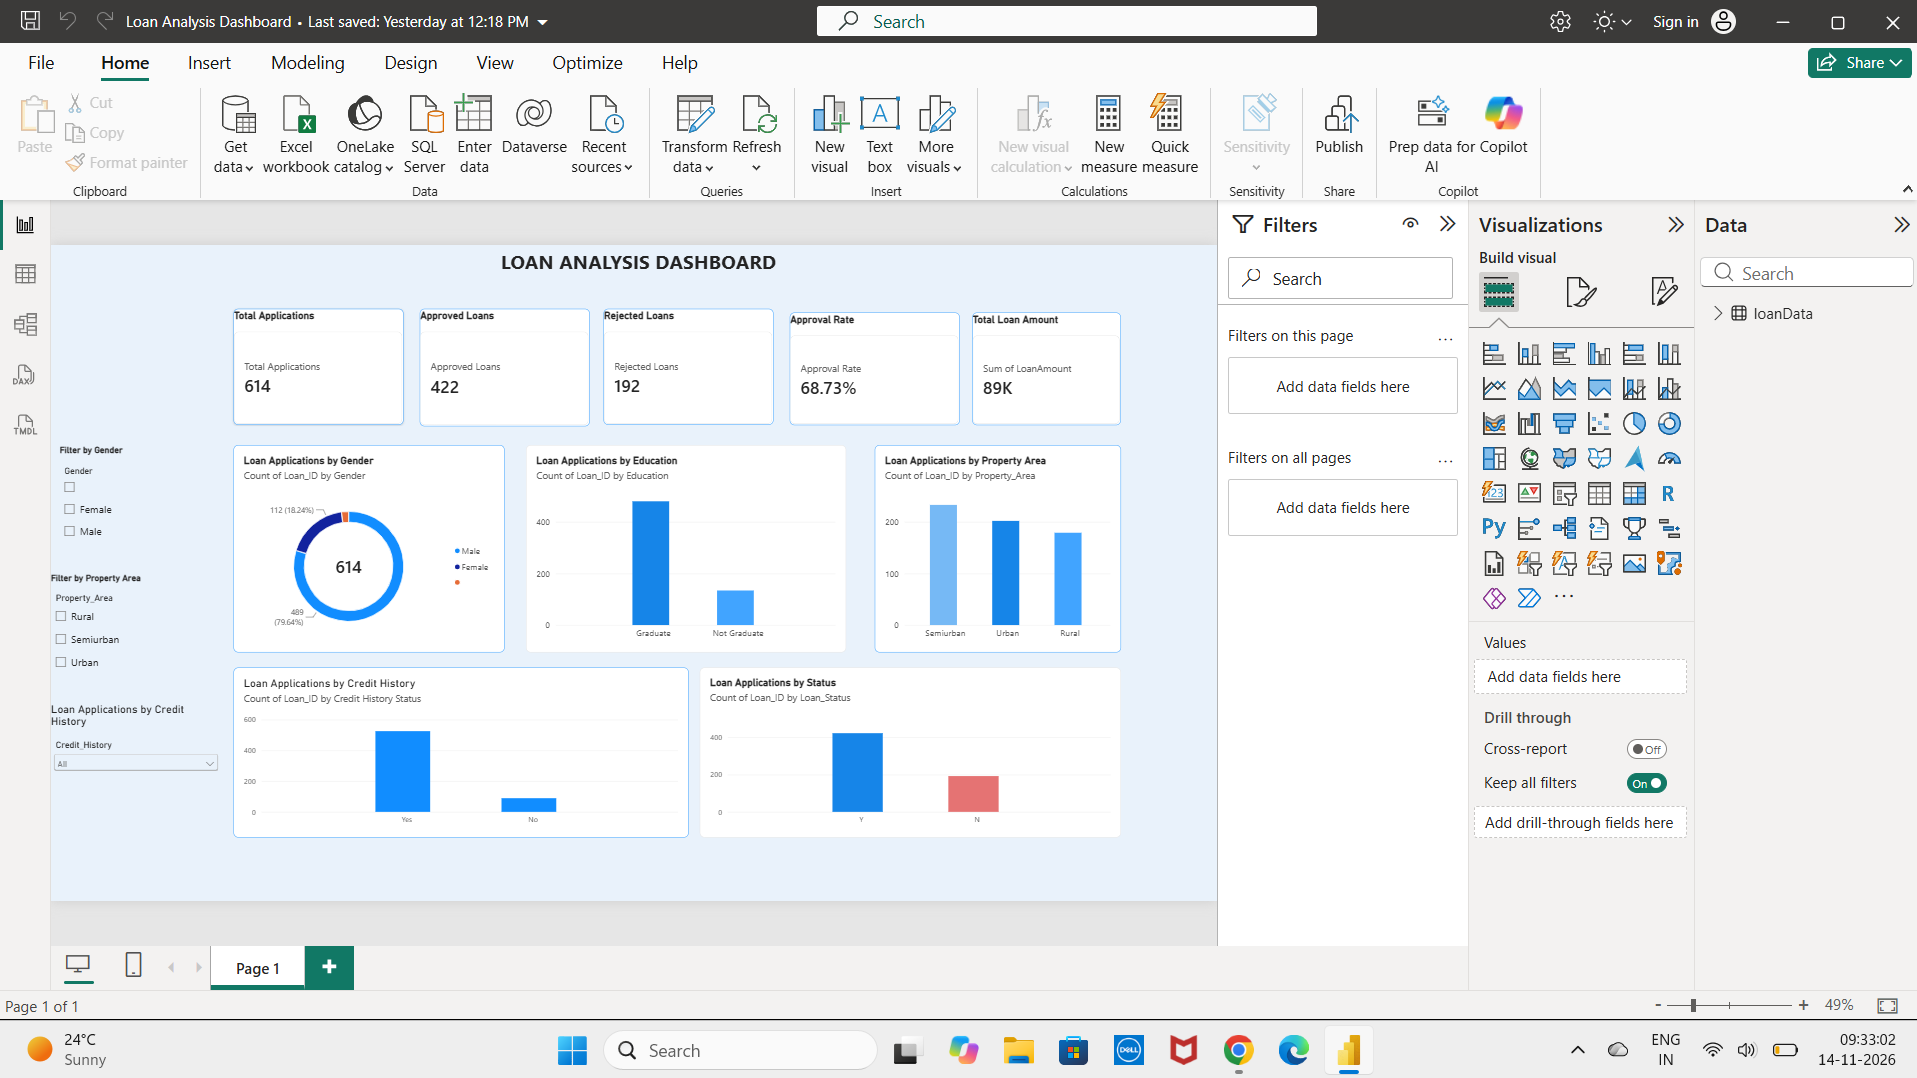

This screenshot's page, from the dashboard's own definition file:
{"tool":"powerbi","page":{"name":"Page 1","canvas":[1920,1080],"ordinal":0},"visuals":[{"type":"cardVisual","title":"Total Applications","fields":{"Data":["loanData.Total Applications"]},"box":[300.5,105,279.9,191.4],"z":0},{"type":"cardVisual","title":"Approved Loans","fields":{"Data":["loanData.Approved Loans"]},"box":[607.2,105,279.9,193.5],"z":1000},{"type":"cardVisual","title":"Rejected Loans","fields":{"Data":["loanData.Rejected Loans"]},"box":[909.8,105,279.9,191.4],"z":2000},{"type":"cardVisual","title":"Approval Rate","fields":{"Data":["loanData.Approval Rate"]},"box":[1216.5,111.1,279.9,185.2],"z":3000},{"type":"clusteredColumnChart","title":"Loan Applications by Education","fields":{"Category":["loanData.Education"],"Y":["CountNonNull(loanData.Loan_ID)"]},"box":[782.2,329.3,526.9,341.7],"z":4000},{"type":"clusteredColumnChart","title":"Loan Applications by Property Area","fields":{"Category":["loanData.Property_Area"],"Y":["CountNonNull(loanData.Loan_ID)"]},"box":[1356.4,329.3,405.5,341.7],"z":5000},{"type":"clusteredColumnChart","title":"Loan Applications by Credit History","fields":{"Category":["loanData.Credit History Status"],"Y":["CountNonNull(loanData.Loan_ID)"]},"box":[300.5,695.7,749.2,279.9],"z":6000},{"type":"donutChart","title":"Loan Applications by Gender","fields":{"Category":["loanData.Gender"],"Y":["CountNonNull(loanData.Loan_ID)"]},"box":[300.5,329.3,446.7,341.7],"z":7000},{"type":"slicer","title":"Loan Applications by Credit History","fields":{"Values":["loanData.Credit_History"]},"box":[0,753.3,279.9,222.3],"z":8000},{"type":"slicer","title":"Filter by Gender","fields":{"Values":["loanData.Gender"]},"box":[14.4,329.3,265.5,170.8],"z":9000},{"type":"slicer","title":"Filter by Property Area","fields":{"Values":["loanData.Property_Area"]},"box":[0,539.3,279.9,177],"z":10000},{"type":"textbox","box":[372,0,1180,74],"z":11000},{"type":"cardVisual","title":"Total Loan Amount","fields":{"Data":["Sum(loanData.LoanAmount)"]},"box":[1517,111.1,244.9,185.2],"z":12000},{"type":"clusteredColumnChart","title":"Loan Applications by Status","fields":{"Category":["loanData.Loan_Status"],"Y":["CountNonNull(loanData.Loan_ID)"]},"box":[1068.3,695.7,693.7,279.9],"z":13000}]}

Visuals, with their boxes on the page's 1920x1080 design canvas (x1, y1, x2, y2). These are canvas units, not pixel positions in the 1917x1078 screenshot, which may show the page scaled, cropped or inside an application window:
"Total Applications" cardVisual: select_region(300, 105, 580, 296)
"Approved Loans" cardVisual: select_region(607, 105, 887, 298)
"Rejected Loans" cardVisual: select_region(910, 105, 1190, 296)
"Approval Rate" cardVisual: select_region(1216, 111, 1496, 296)
"Loan Applications by Education" clusteredColumnChart: select_region(782, 329, 1309, 671)
"Loan Applications by Property Area" clusteredColumnChart: select_region(1356, 329, 1762, 671)
"Loan Applications by Credit History" clusteredColumnChart: select_region(300, 696, 1050, 976)
"Loan Applications by Gender" donutChart: select_region(300, 329, 747, 671)
"Loan Applications by Credit History" slicer: select_region(0, 753, 280, 976)
"Filter by Gender" slicer: select_region(14, 329, 280, 500)
"Filter by Property Area" slicer: select_region(0, 539, 280, 716)
textbox: select_region(372, 0, 1552, 74)
"Total Loan Amount" cardVisual: select_region(1517, 111, 1762, 296)
"Loan Applications by Status" clusteredColumnChart: select_region(1068, 696, 1762, 976)
